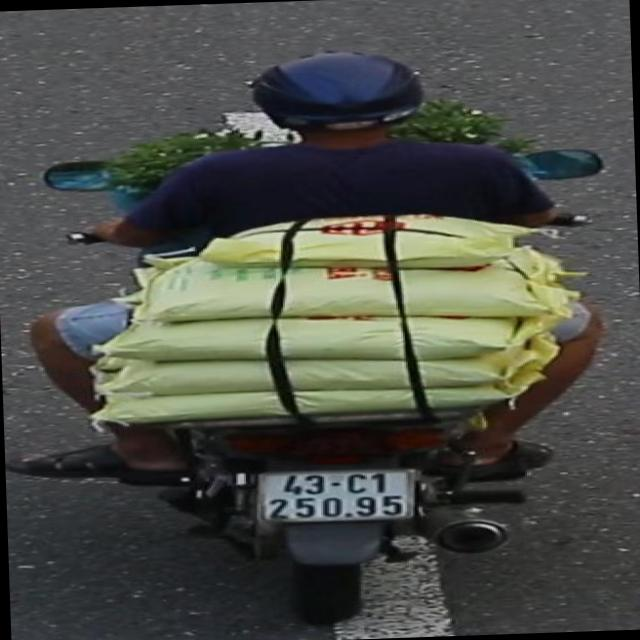LP: (243, 462, 422, 528)
helmet: (238, 40, 428, 160)
